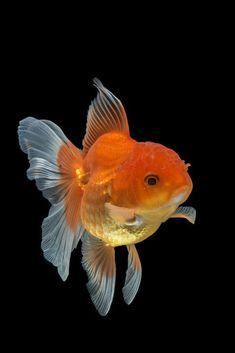goldfish: (35, 122, 197, 254)
